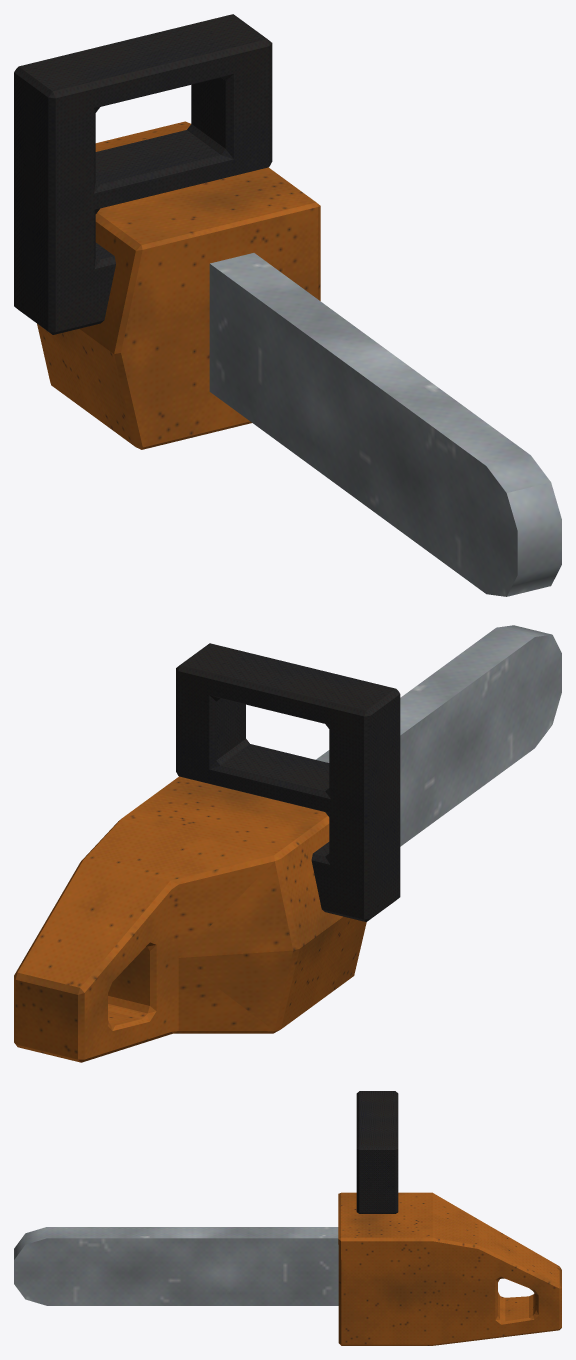
The model's file is Chainsaw.fbx.
The picture shows the model from 3 angles, top to bottom: view 1: azimuth 30°, elevation 25°; view 2: azimuth 150°, elevation 25°; view 3: azimuth 270°, elevation 25°; orthographic projection. The views are drawn at different scales.
Visible parts, largest first — view 1: Chainsaw, Cube.001, Cube; view 2: Cube, Cube.001, Chainsaw; view 3: Cube, Chainsaw, Cube.001.
Boxes of the visible parts, <box> form: Chainsaw: <box>209,253,561,596</box>; Cube.001: <box>14,14,272,334</box>; Cube: <box>37,121,320,449</box>; Cube: <box>14,776,366,1062</box>; Cube.001: <box>176,643,400,921</box>; Chainsaw: <box>316,625,561,846</box>; Cube: <box>338,1192,561,1345</box>; Chainsaw: <box>14,1227,338,1305</box>; Cube.001: <box>356,1091,398,1213</box>.
Bounding box in the file's own units: 0.2725 × 0.3711 × 0.962.
Materials: 3 (3 with a texture image).
